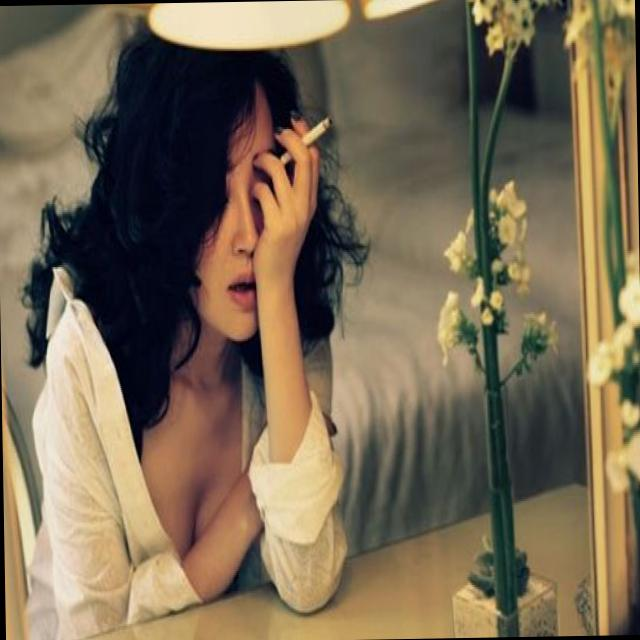cigarette: (270, 109, 332, 170)
